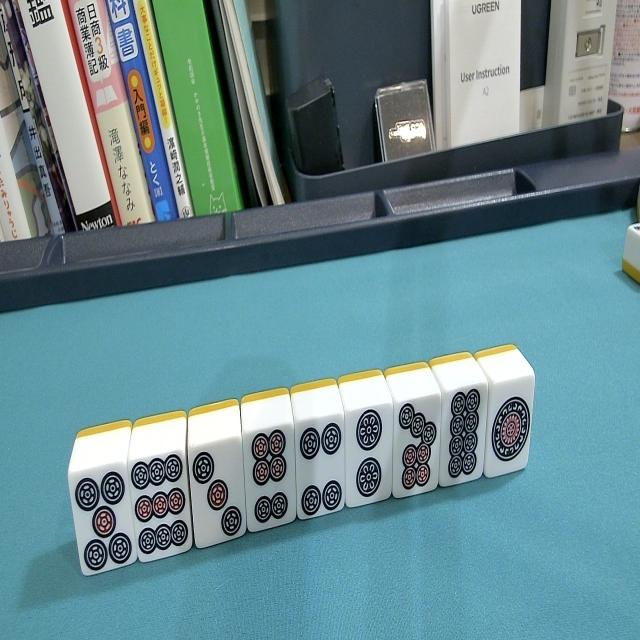1_pin: (478, 342, 536, 483)
2_pin: (338, 366, 397, 512)
3_pin: (188, 398, 245, 561)
4_pin: (288, 378, 350, 522)
5_pin: (67, 420, 138, 578)
6_pin: (236, 387, 298, 537)
7_pin: (385, 359, 443, 505)
8_pin: (432, 350, 490, 492)
9_pin: (129, 408, 192, 572)
